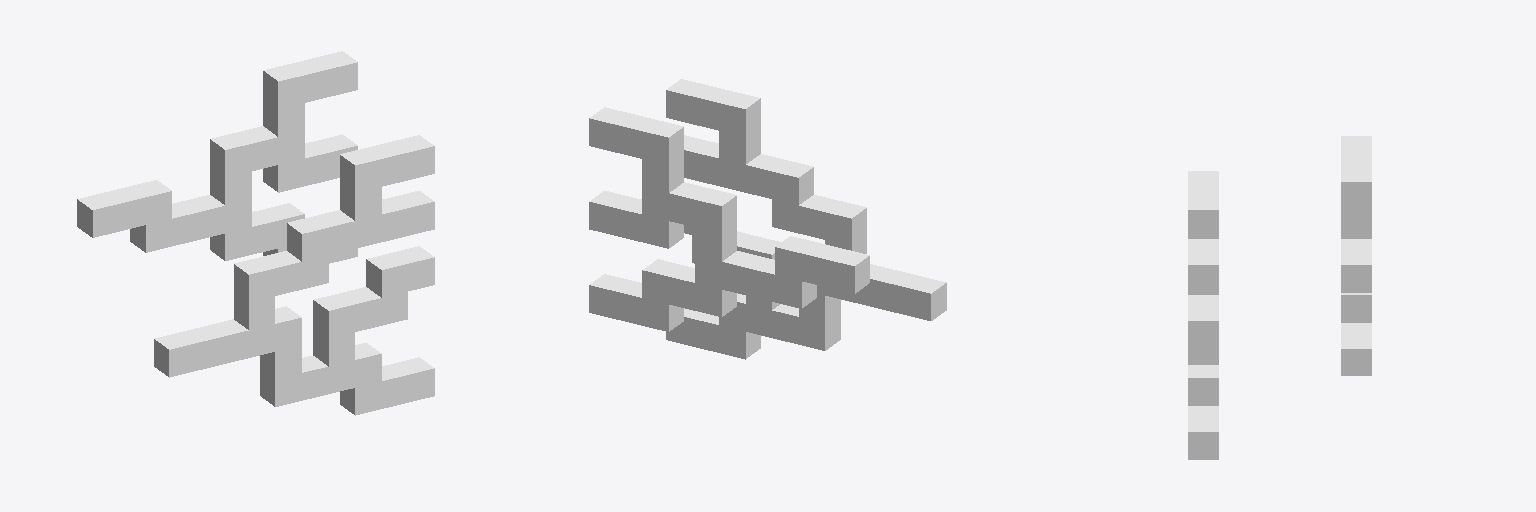
File: water_spike_right.obj
3 renders of one model, left to right at view 1: azimuth 30°, elevation 25°; view 2: azimuth 150°, elevation 25°; view 3: azimuth 270°, elevation 25°, orthographic.
Visible parts, largest first — view 1: object 1; view 2: object 1; view 3: object 1.
Boxes of the visible parts, <box> form: object 1: <box>77,51,434,415</box>; object 1: <box>589,79,946,359</box>; object 1: <box>1188,136,1371,459</box>.
Bounding box in the file's own units: 1 × 1 × 0.6.